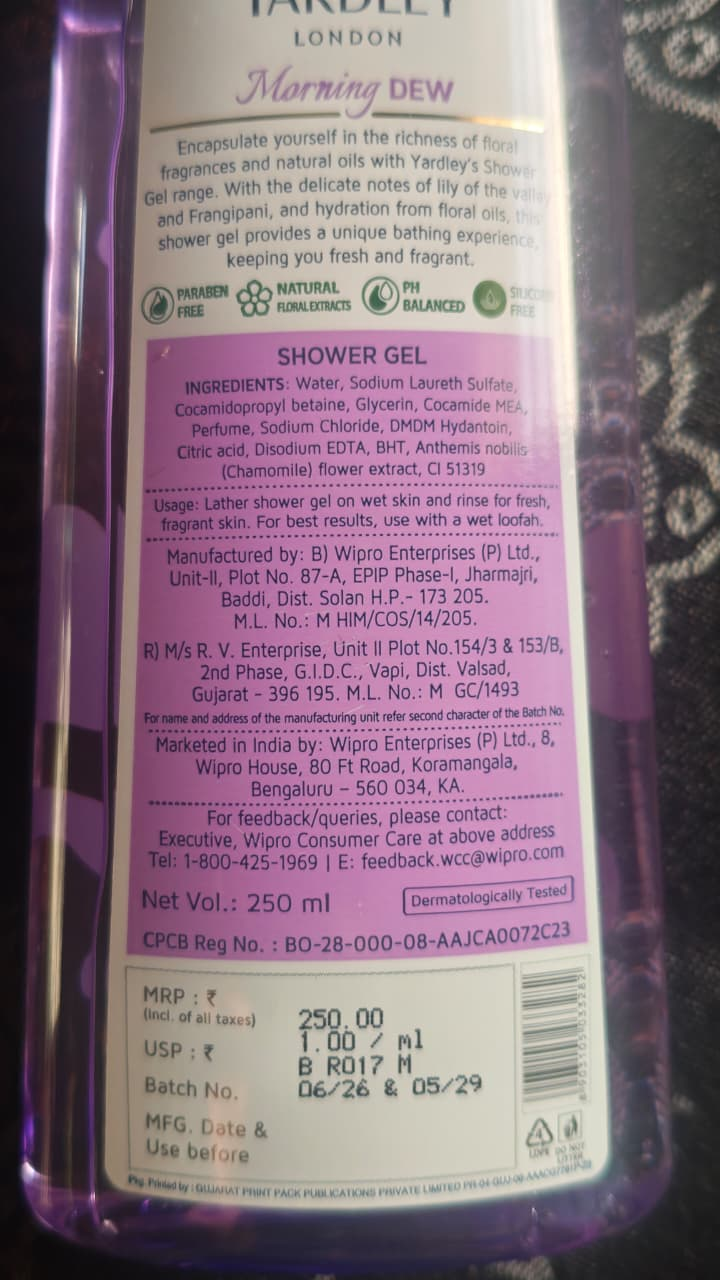Brand: (221, 0, 481, 40)
EXP_Date: (406, 1070, 495, 1105)
Ingredients: (167, 367, 555, 485)
MFG_Date: (286, 1070, 378, 1108)
MRP: (293, 1002, 398, 1034)
